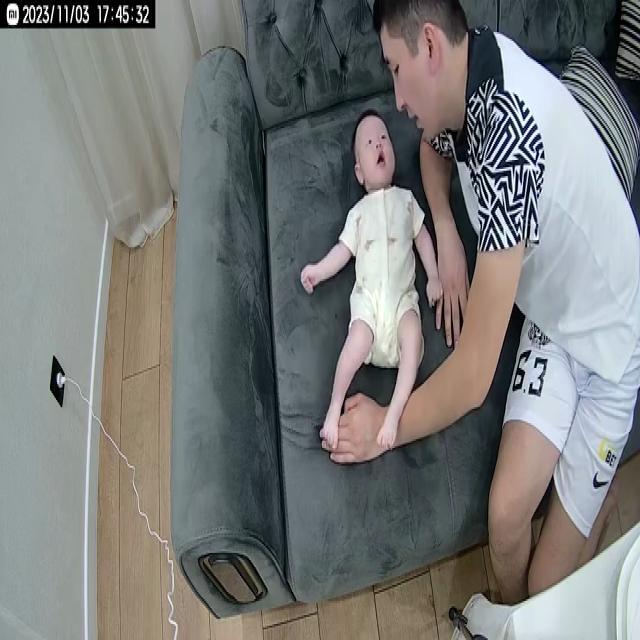baby: (298, 109, 446, 466)
